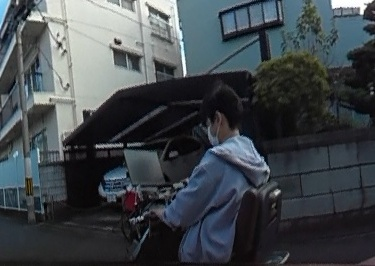person: (155, 86, 268, 266)
